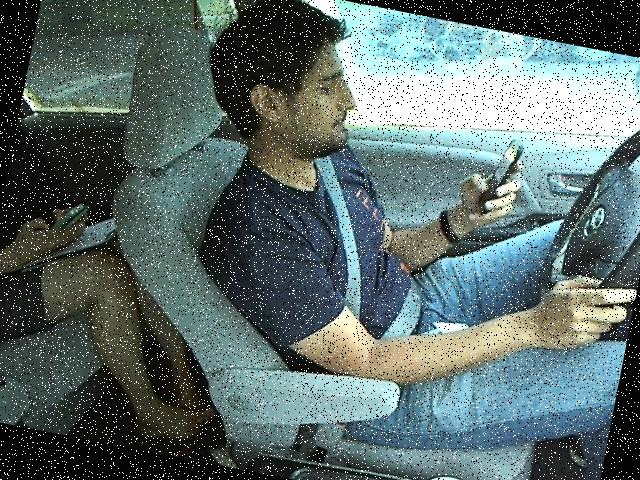c1 - Texting: (148, 0, 639, 430)
